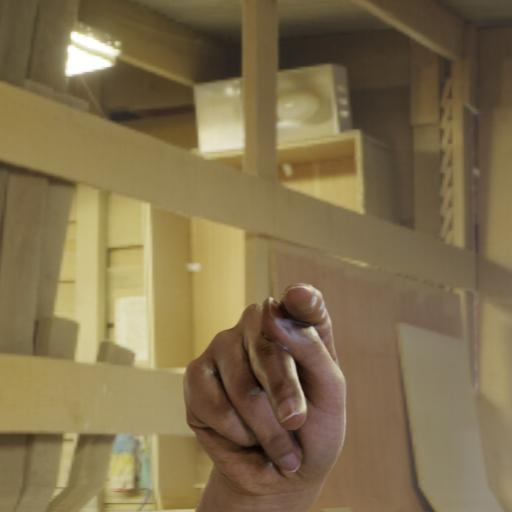P: (162, 268, 370, 512)
